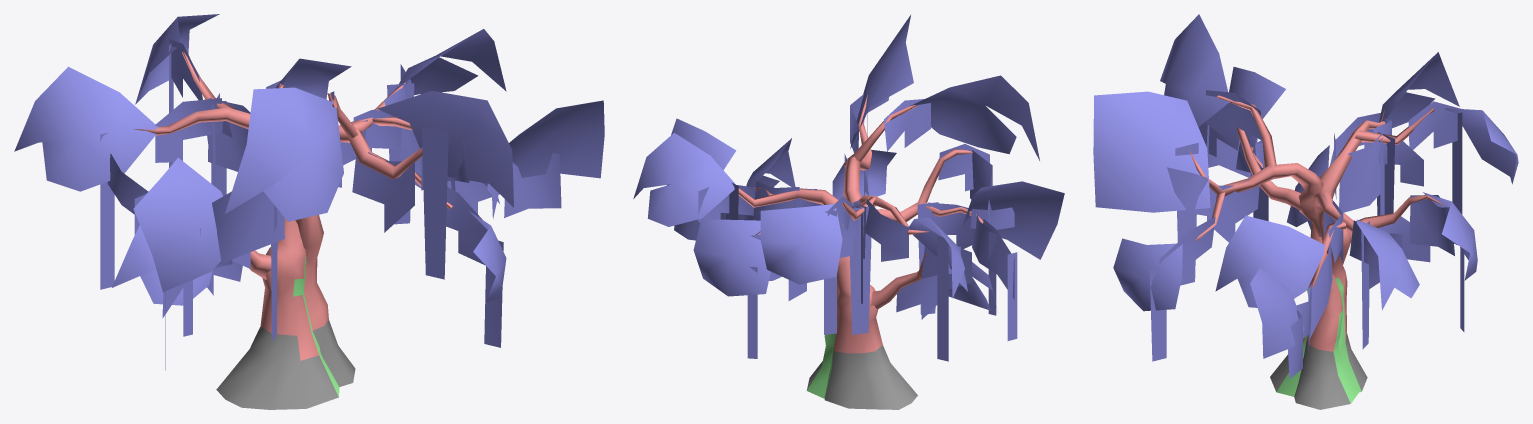
File: Primitive_MDtree004S.gltf
3 views of the same model, side by side, from view 1: azimuth 30°, elevation 25°; view 2: azimuth 150°, elevation 25°; view 3: azimuth 270°, elevation 25° (orthographic). The views are drawn at different scales.
Visible parts, largest first — view 1: Primitive_MDtree004S; view 2: Primitive_MDtree004S; view 3: Primitive_MDtree004S.
Boxes of the visible parts, x1=… form: Primitive_MDtree004S: x1=14, y1=14, x2=604, y2=409; Primitive_MDtree004S: x1=633, y1=15, x2=1064, y2=409; Primitive_MDtree004S: x1=1093, y1=14, x2=1518, y2=409.
Size of the model in its own units: 14.77 by 10.77 by 12.83.
